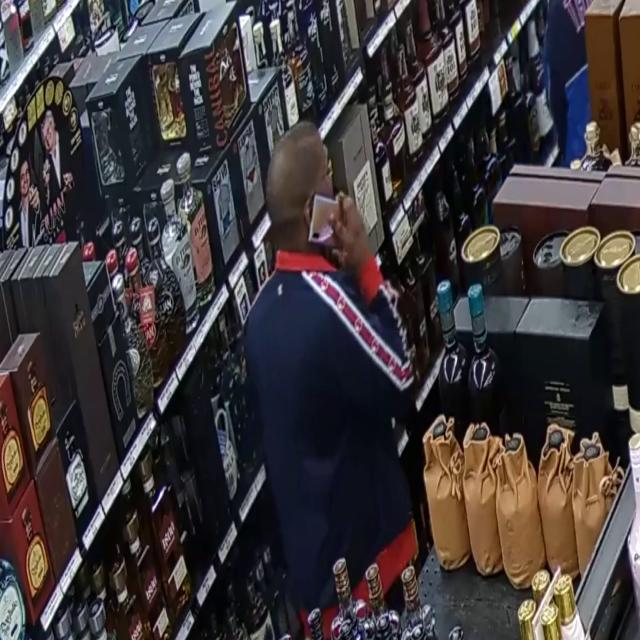normal: (228, 116, 443, 630)
